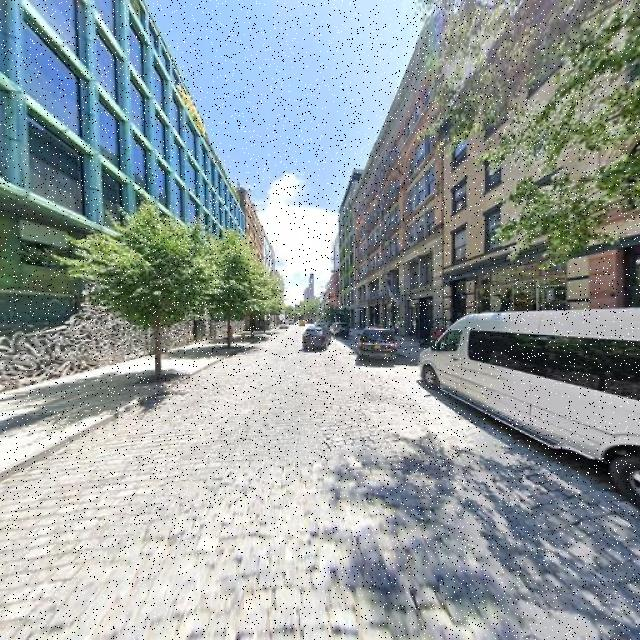Building: (1, 1, 243, 393), (444, 1, 589, 384), (355, 3, 440, 349)
